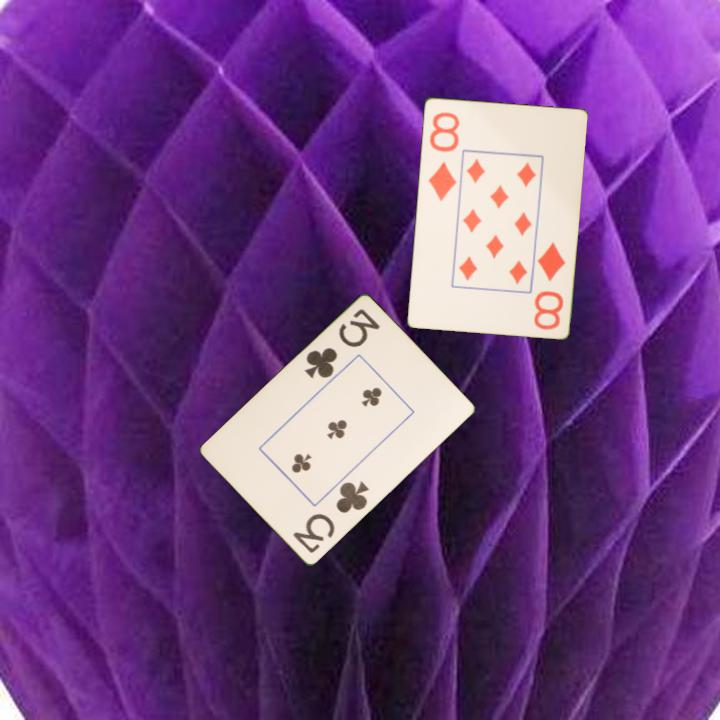3c: (289, 478, 372, 557), (301, 305, 383, 382)
8d: (530, 238, 568, 332), (425, 108, 462, 204)
